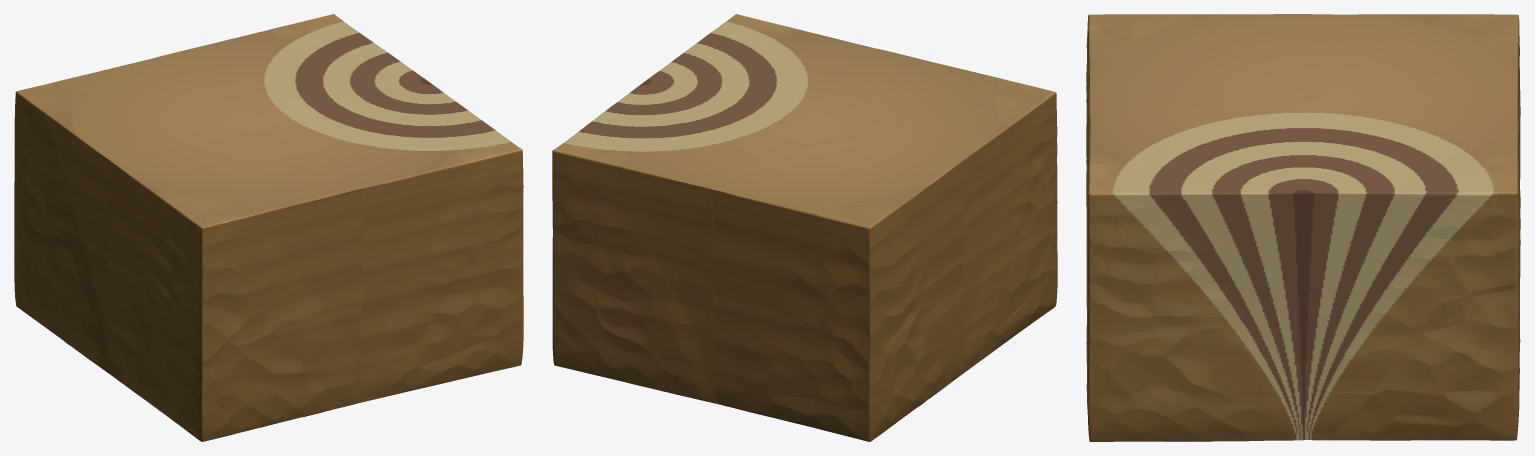
3 views of the same model, side by side, from view 1: azimuth 30°, elevation 25°; view 2: azimuth 150°, elevation 25°; view 3: azimuth 270°, elevation 25° (orthographic). The views are drawn at different scales.
Visible parts, largest first — view 1: world; view 2: world; view 3: world.
Boxes of the visible parts, x1,y1,x2,y2 form: world: [14, 14, 523, 441]; world: [552, 14, 1057, 441]; world: [1086, 14, 1520, 441].
Bounding box in the file's own units: 0.996 × 0.6342 × 0.9991.
Materials: 1 (1 with a texture image).
